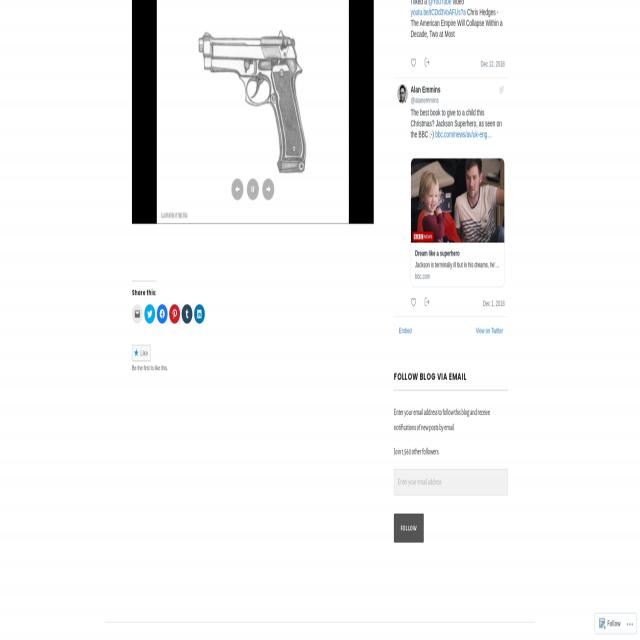button: (132, 0, 374, 224), (410, 157, 504, 287), (394, 514, 424, 543), (595, 614, 636, 634), (132, 345, 151, 362), (407, 52, 420, 72), (232, 179, 244, 200), (247, 179, 259, 200), (262, 179, 274, 200), (496, 79, 507, 100), (421, 53, 433, 72), (408, 292, 419, 312), (169, 304, 180, 324), (194, 304, 205, 324), (397, 85, 408, 104), (421, 292, 432, 311), (132, 304, 142, 324), (145, 304, 155, 324), (157, 304, 167, 324), (182, 304, 192, 324)
field: (394, 469, 508, 496)
